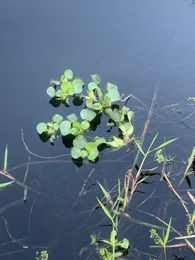water_hyacinth: (36, 70, 140, 156)
